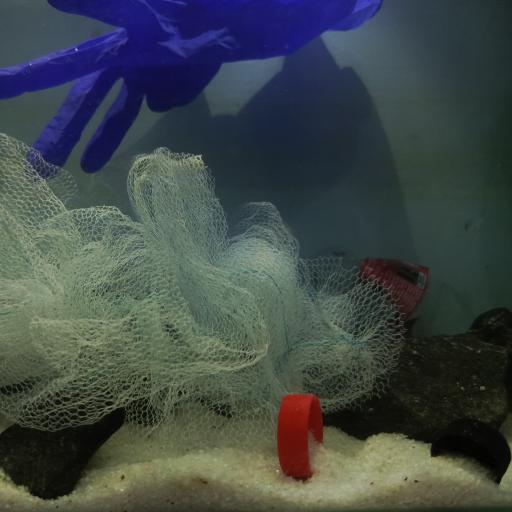bottle_cap: (429, 416, 512, 485), (279, 392, 323, 480)
glove: (0, 0, 384, 184)
net: (0, 130, 409, 458)
plastic_bottle: (306, 247, 481, 338)
